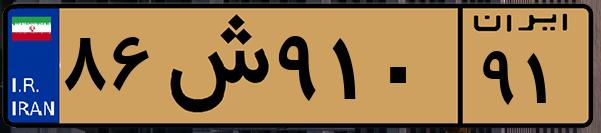0: (385, 28, 445, 110)
1: (330, 28, 385, 110), (525, 38, 570, 115)
6: (110, 28, 158, 98)
8: (57, 26, 110, 100)
9: (270, 28, 330, 110), (475, 38, 525, 113)
ش: (158, 12, 270, 120)
